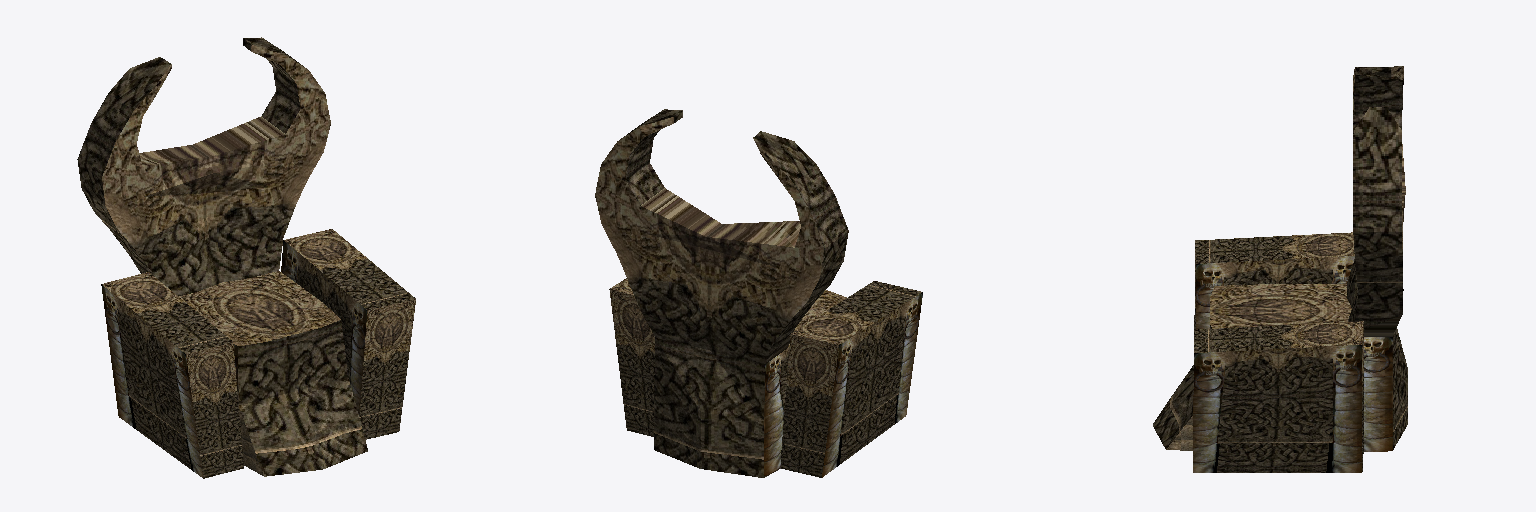
3 renders of one model, left to right at view 1: azimuth 30°, elevation 25°; view 2: azimuth 150°, elevation 25°; view 3: azimuth 270°, elevation 25°, orthographic.
Parts seen in each view (by area): view 1: Throne, Arm1, Arm2; view 2: Throne, Arm1, Arm2; view 3: Throne, Arm2, Arm1.
Part boxes in pixels (bbox=[...]): Throne: bbox=[77, 37, 367, 476]; Arm1: bbox=[101, 272, 243, 478]; Arm2: bbox=[281, 229, 415, 439]; Throne: bbox=[595, 109, 848, 477]; Arm1: bbox=[781, 281, 922, 477]; Arm2: bbox=[609, 278, 654, 436]; Throne: bbox=[1153, 66, 1407, 451]; Arm2: bbox=[1193, 321, 1363, 472]; Arm1: bbox=[1194, 232, 1354, 339].
Bounding box in the file's own units: 91.86 × 126 × 86.5.
1 materials, 1 textured.